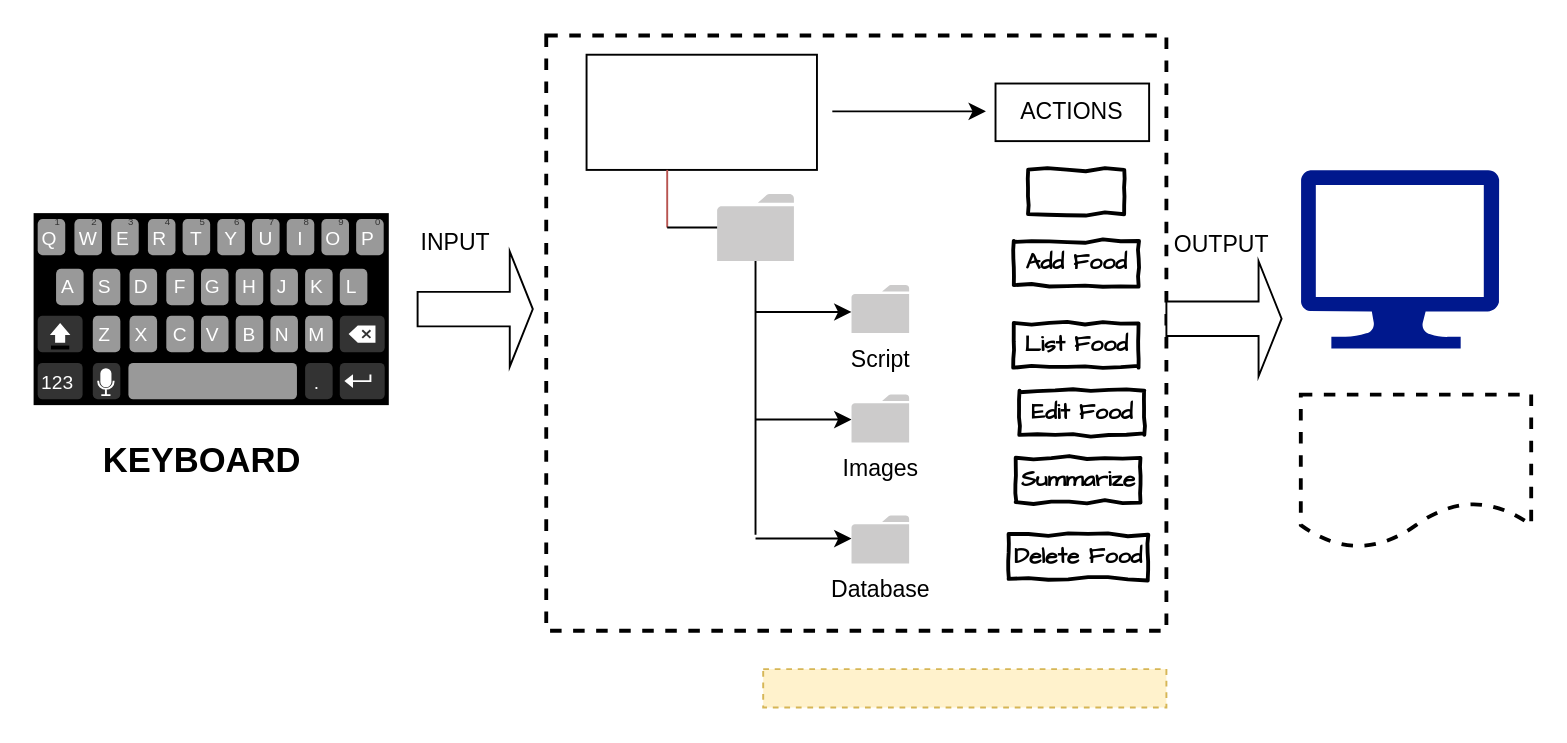
Some shapes in this 1567 by 743 pixel diagram are drawn without their labels. Here are the shapes that lost their labels. From the top down, the centre of each, then its label:
At pixel 701 111: "FOOD MANAGEMENT SYSTEM".
At pixel 1075 191: "Log in".
At pixel 1399 258: "SCREEN".
At pixel 1415 470: "PRINT".
At pixel 963 687: "MAIN APPLICATION".
